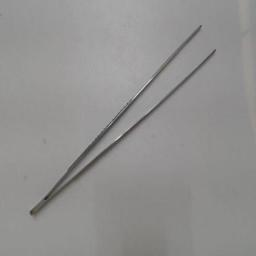DeBakey Dissector: (25, 19, 231, 233)
